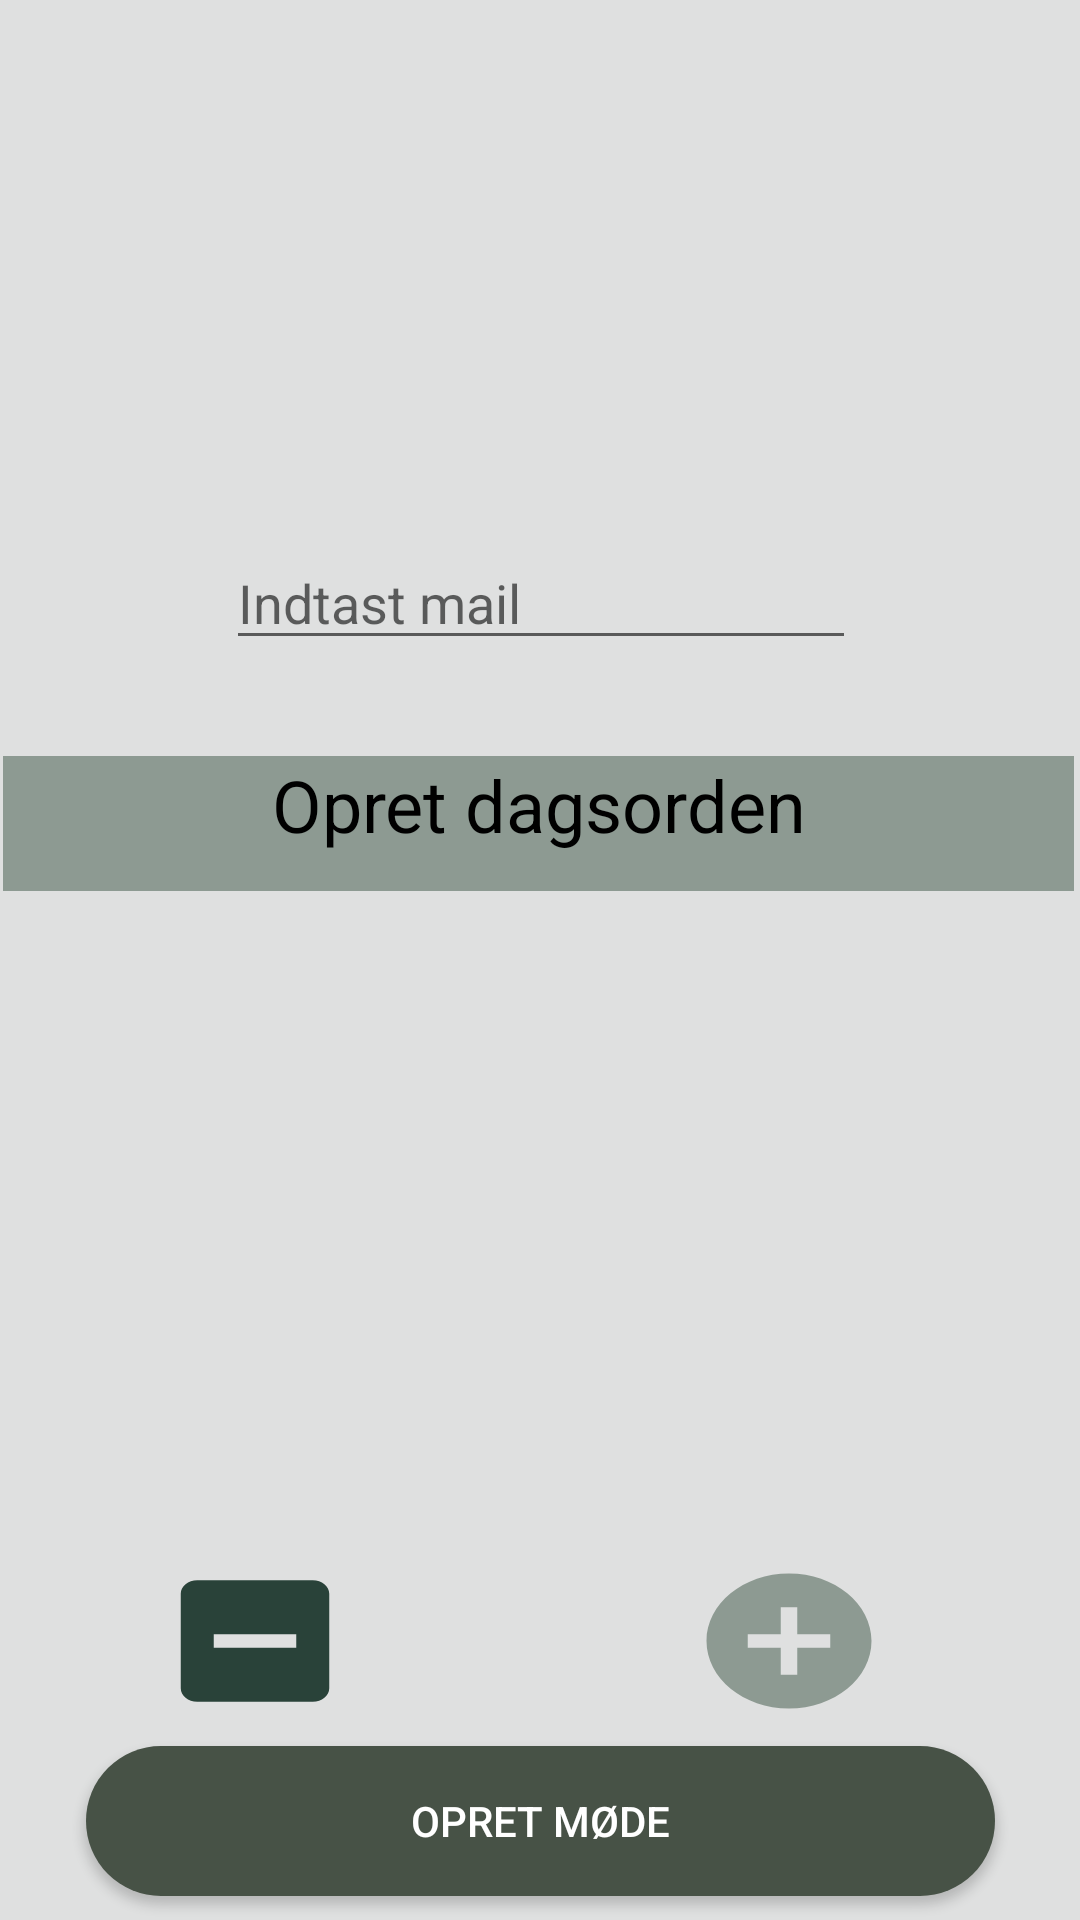

Point at icon controls on the screen. Image size 1080 x 1920, points as point (x, y).
addtryk: point (789, 1641)
minustryk: point (255, 1641)
